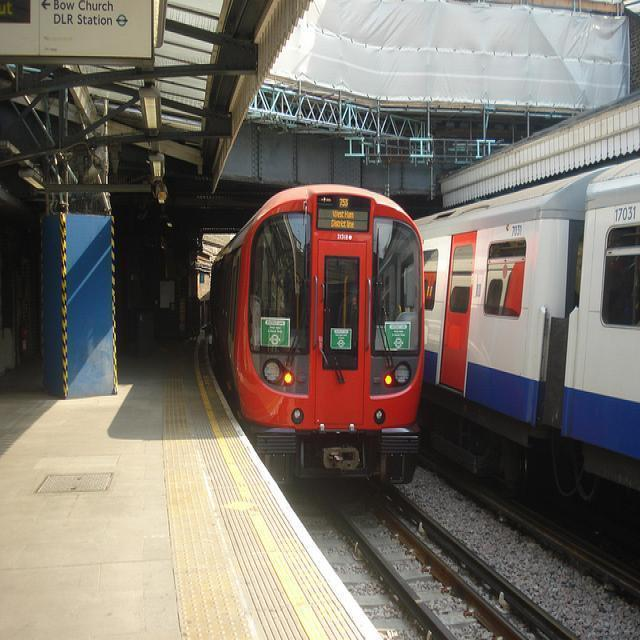trains: (208, 185, 426, 486)
